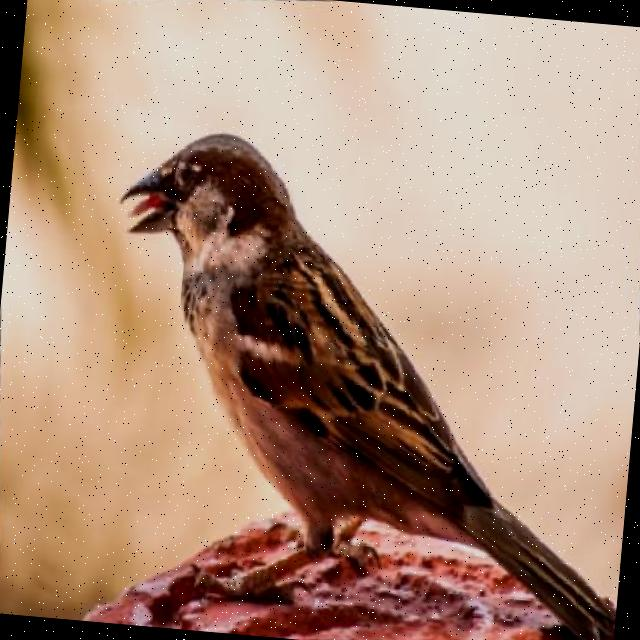sparrow: (79, 91, 640, 640)
